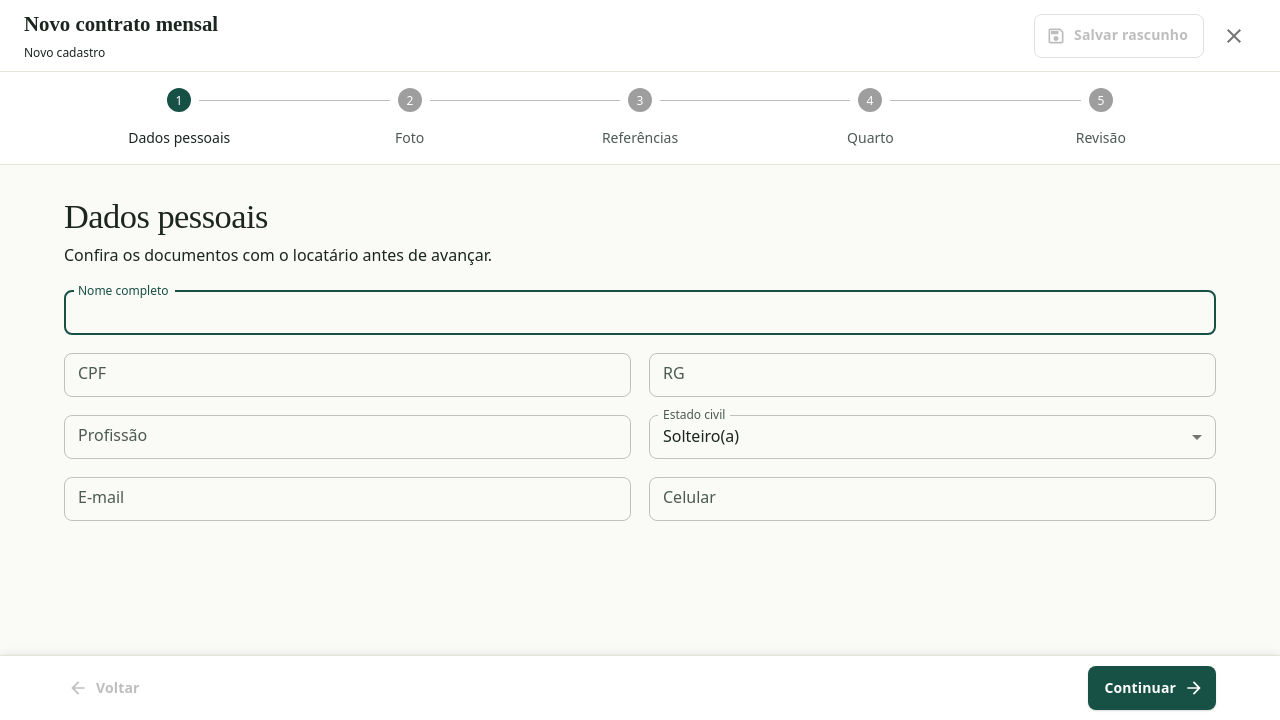
Test case: OnboardingWizard › salva um rascunho pela API e protege a saída com alterações pendentes
Type "Ana" into the field labelled "Nome completo" at [640, 313], box [64, 293, 1216, 333]
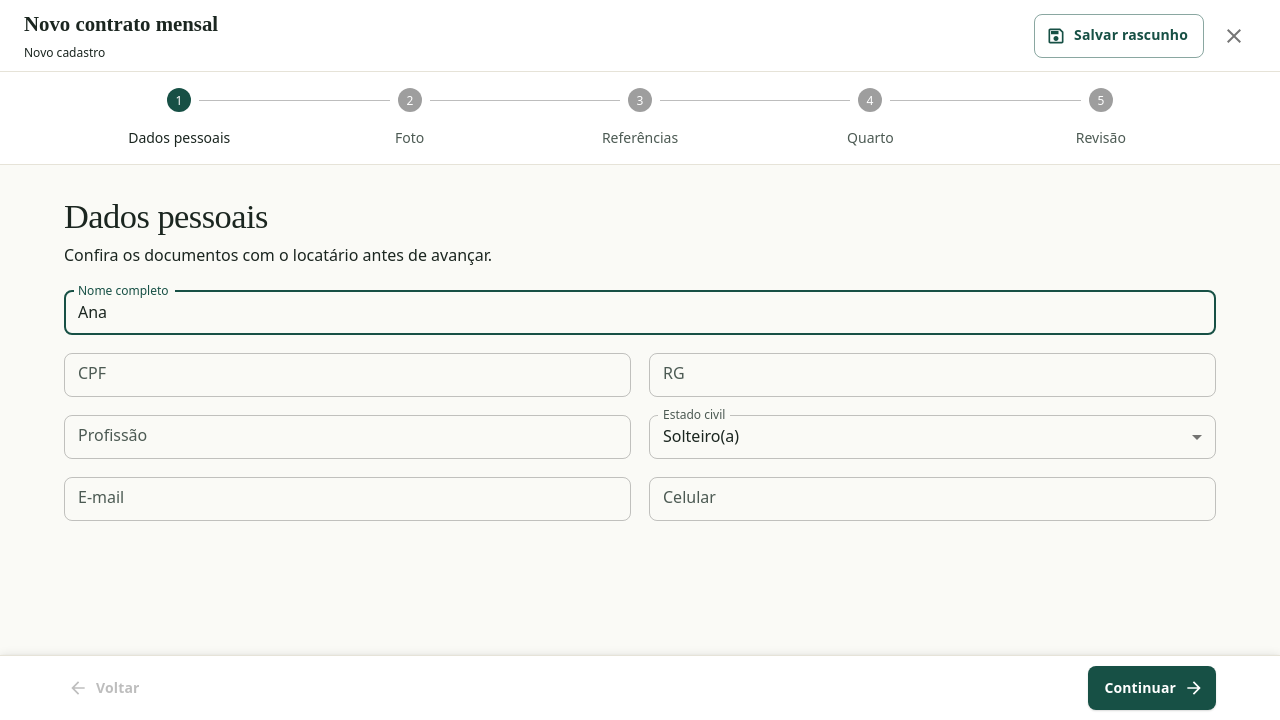
Click the button "Salvar rascunho" at [1119, 36], box [1034, 14, 1204, 58]
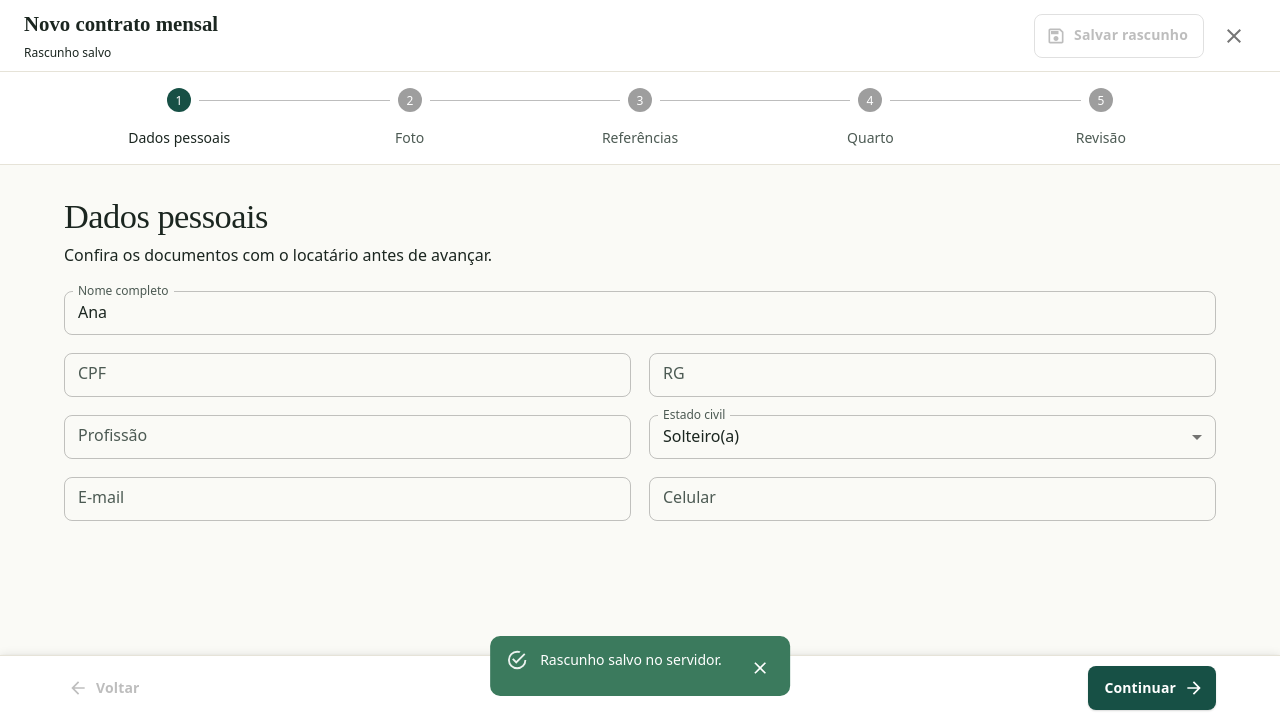
Expected: the text "Rascunho salvo no servidor." is shown, [540, 650, 722, 669]
Replace the text in the field labelled "Nome completo" with "Ana Paula" at [640, 313], box [64, 293, 1216, 333]
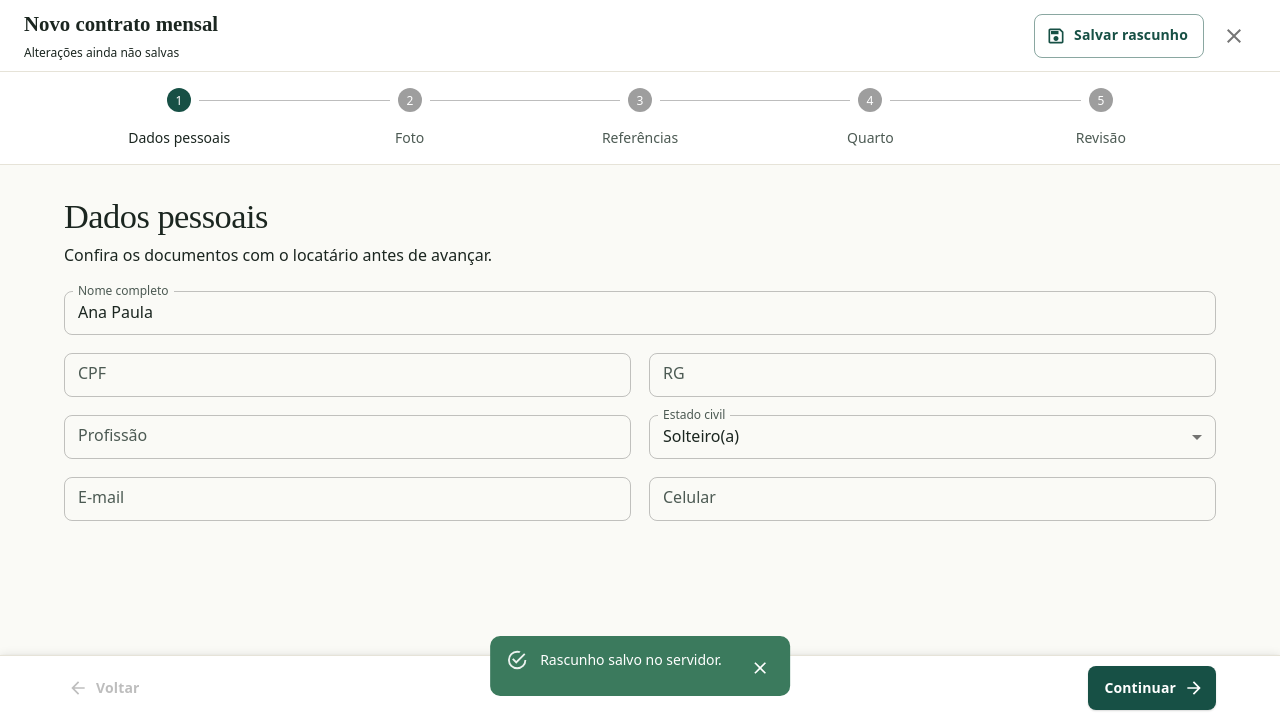
Click the button named "Fechar cadastro" at [1234, 36], box [1212, 14, 1256, 58]
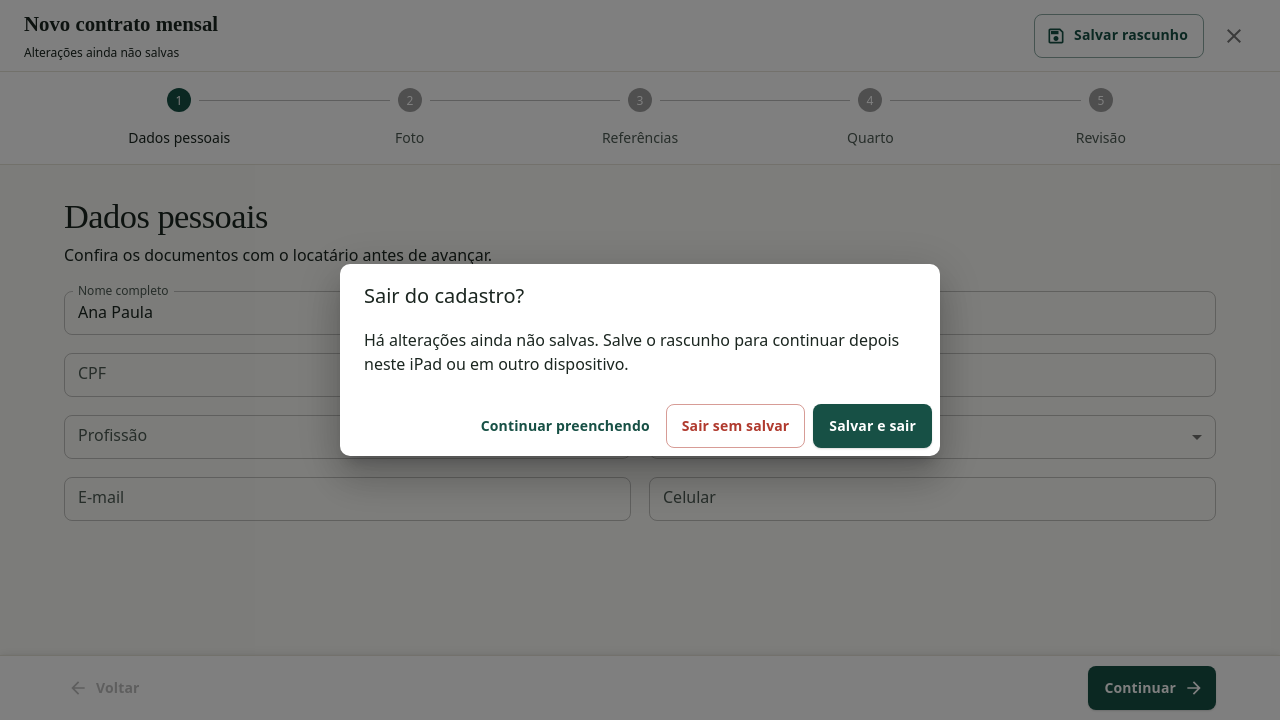
Expected: the dialog "Sair do cadastro?" is shown, [340, 264, 940, 456]
Click the button "Continuar preenchendo" at [565, 426], box [473, 404, 658, 448]
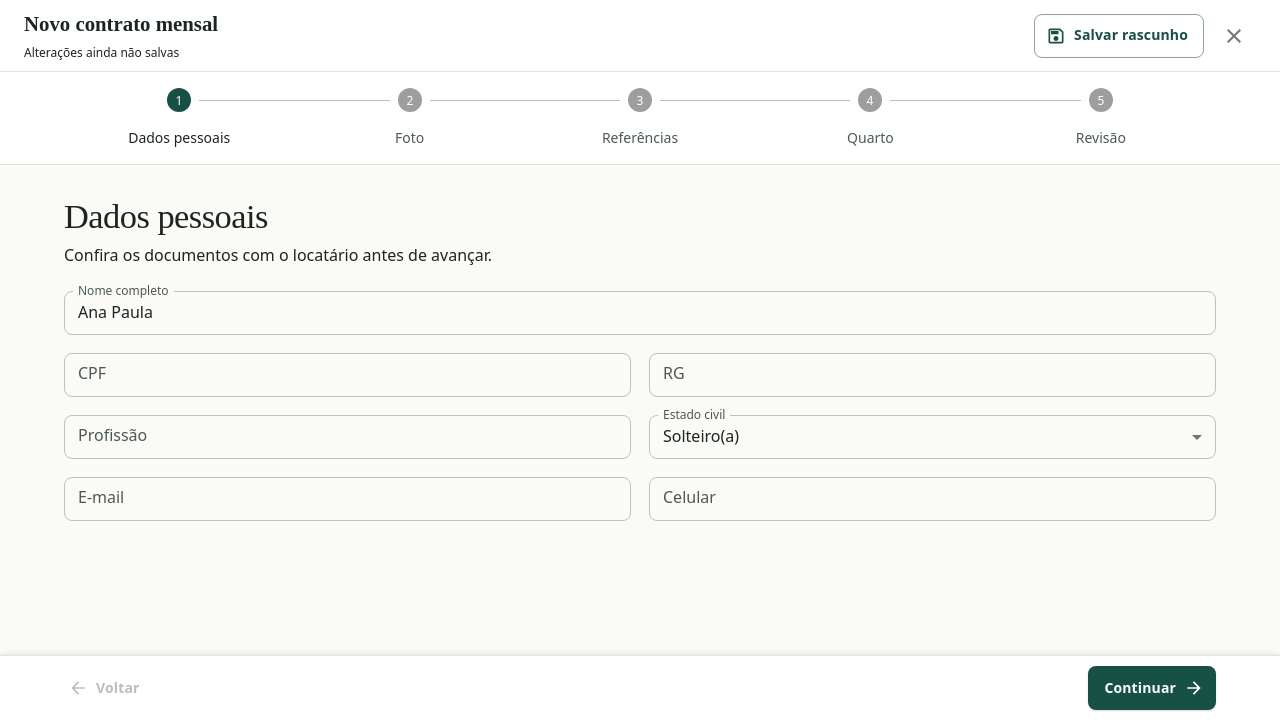
Expected: the heading "Sair do cadastro?" is gone
